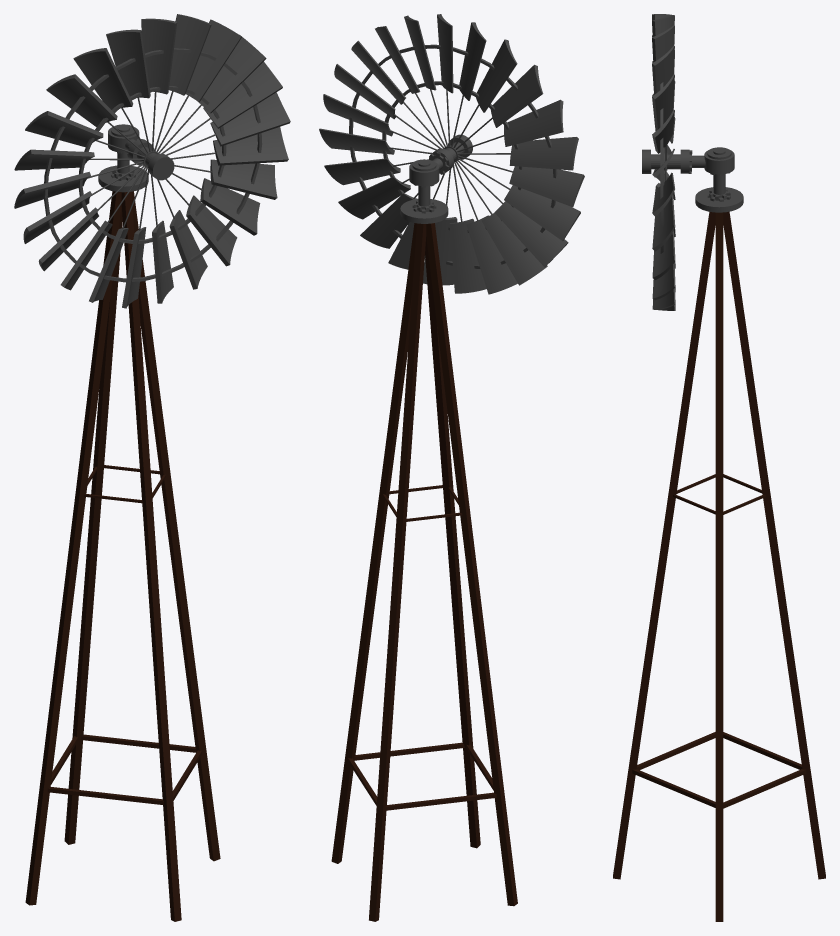
Rendered from WindMill.FBX.
3 views of the same model, side by side, from view 1: azimuth 30°, elevation 25°; view 2: azimuth 150°, elevation 25°; view 3: azimuth 270°, elevation 25° (orthographic). The views are drawn at different scales.
Parts seen in each view (by area): view 1: Box025, Box026, Box024, Box027, Tube002, Box007, Box008, Box006, Box009, Box010, Box011, Box012 (+20 smaller); view 2: Box027, Box025, Box024, Box026, Box023, Box001, Box002, Box022, Box021, Box020, Box019, Box003 (+20 smaller); view 3: Box024, Box027, Box026, Cylinder034, Box009, Box013, Box008, Box014, Cylinder024, Box028, Box031, Box029 (+6 smaller).
Boxes of the visible parts, x1,y1,x2,y2 form: Box025: (25,191,121,905); Box026: (121,192,181,921); Box024: (131,191,220,861); Box027: (64,206,122,844); Tube002: (43,48,262,282); Box007: (141,18,177,94); Box008: (169,14,211,95); Box006: (106,29,150,98); Box009: (185,19,241,101); Box010: (198,35,266,113); Box011: (203,61,282,128); Box012: (210,92,290,146); Box027: (369,223,426,921); Box025: (426,223,517,906); Box024: (331,223,416,863); Box026: (425,237,480,848); Box023: (504,185,580,240); Box001: (509,166,584,207); Box002: (509,137,578,170); Box022: (494,201,568,267); Box021: (482,213,547,285); Box020: (466,215,517,294); Box019: (449,218,486,293); Box003: (504,99,563,146); Box024: (715,212,723,921); Box027: (723,211,825,879); Box026: (613,211,715,879); Cylinder034: (695,187,743,212); Box009: (652,74,674,131); Box013: (652,195,675,251); Box008: (652,45,674,94); Box014: (652,231,675,279); Cylinder024: (651,149,689,173); Box028: (723,769,806,808); Box031: (632,769,715,807); Box029: (636,732,715,770).
Bounding box in the file's own units: 98.11 × 310 × 70.34.
